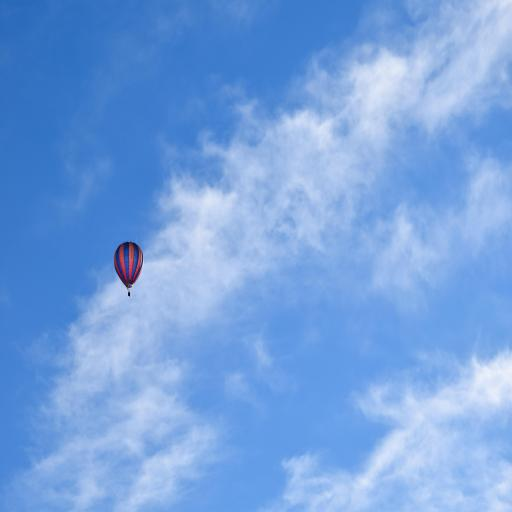hot air ballon: (112, 238, 146, 298)
